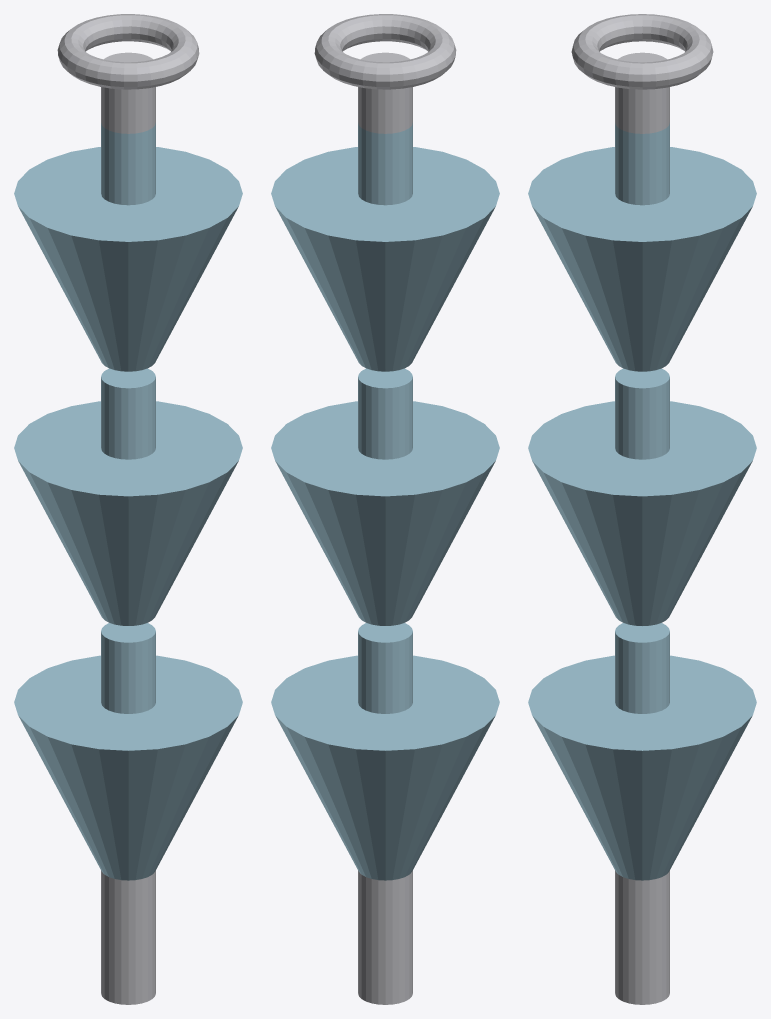
File: Cadena_460mm.fbx
3 renders of one model, left to right at view 1: azimuth 30°, elevation 25°; view 2: azimuth 150°, elevation 25°; view 3: azimuth 270°, elevation 25°, orthographic.
Visible parts, largest first — view 1: Cadena_460mm; view 2: Cadena_460mm; view 3: Cadena_460mm.
Part boxes in pixels (x1,y1,x2,y2): Cadena_460mm: [14, 14, 242, 1004]; Cadena_460mm: [271, 14, 499, 1004]; Cadena_460mm: [528, 14, 756, 1004].
Bounding box in the file's own units: 10 × 46 × 10.
